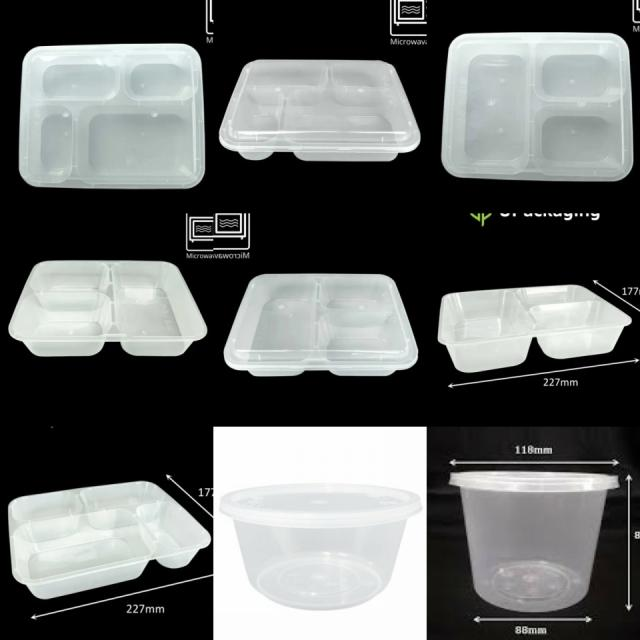Single-Use-Plastic: (441, 32, 632, 181), (20, 44, 205, 188), (220, 484, 422, 610), (449, 471, 619, 612), (9, 481, 210, 599), (220, 60, 420, 161), (224, 274, 418, 376), (9, 261, 206, 356), (439, 285, 631, 372)
